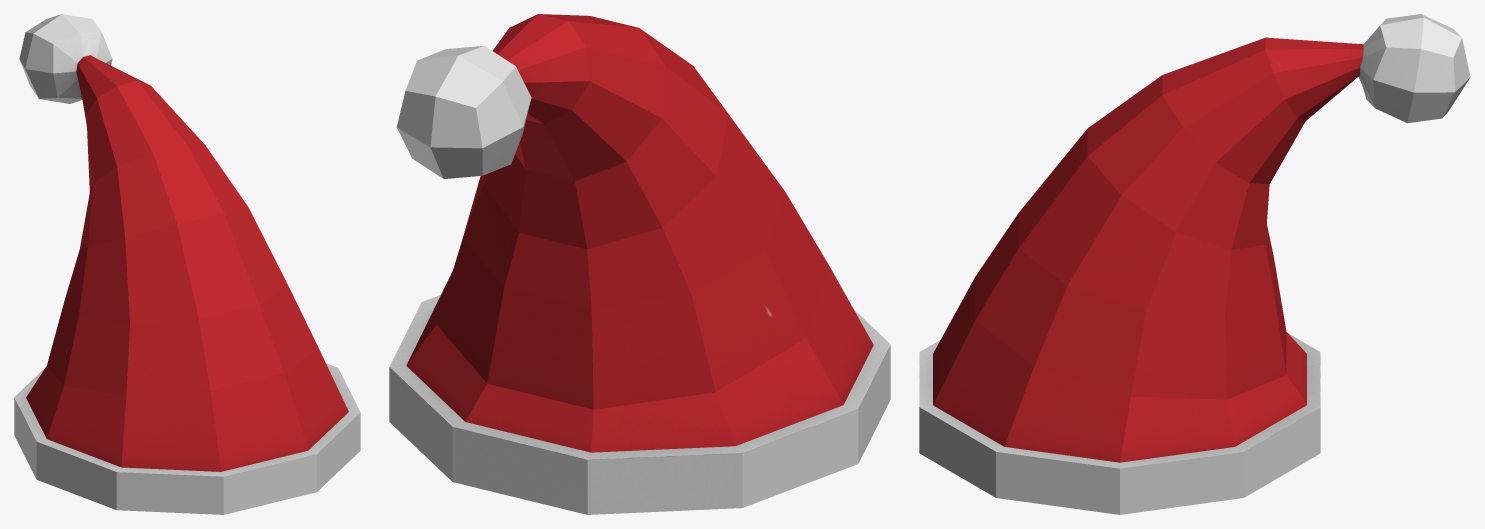
File: BonnetNoel.fbx
The picture shows the model from 3 angles, left to right: view 1: azimuth 30°, elevation 25°; view 2: azimuth 150°, elevation 25°; view 3: azimuth 270°, elevation 25°; orthographic projection. The views are drawn at different scales.
Parts seen in each view (by area): view 1: Cone; view 2: Cone; view 3: Cone.
Part boxes in pixels (x1=…): Cone: x1=14, y1=14, x2=360, y2=514; Cone: x1=389, y1=14, x2=890, y2=514; Cone: x1=919, y1=14, x2=1470, y2=514.
Bounding box in the file's own units: 69.69 × 74.42 × 91.06.
